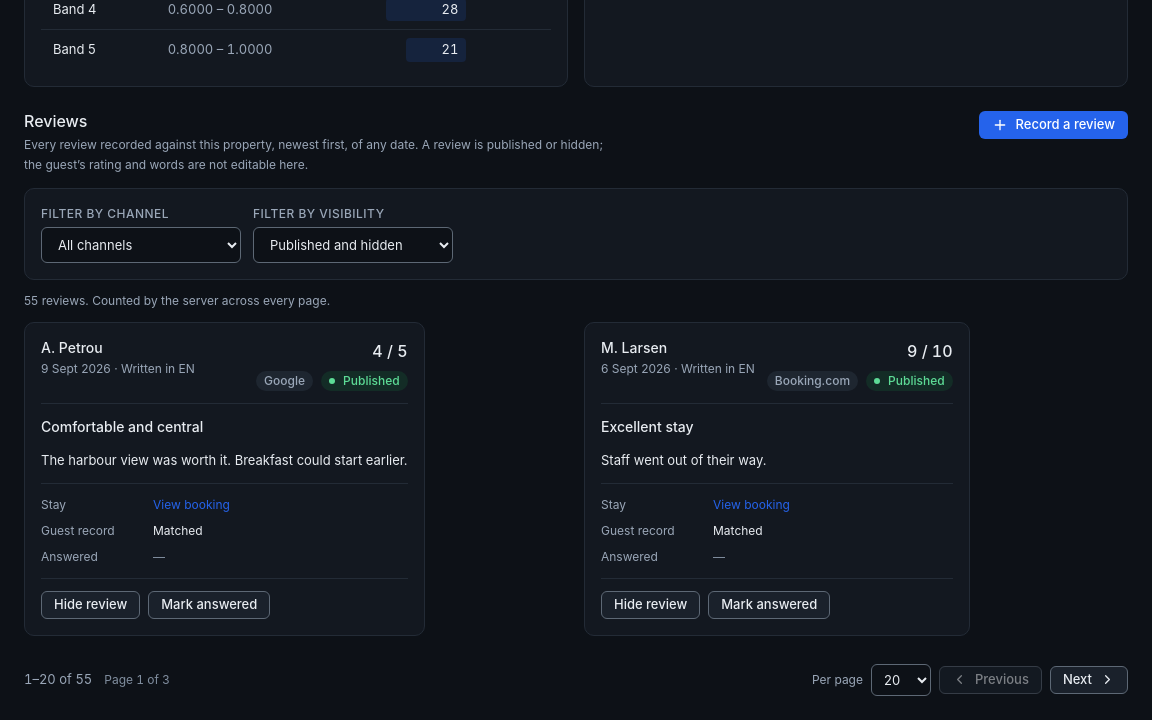
Test: moderation › never renders the backend’s own words on a refusal
(page scrolled)
Expected: the text "Comfortable and central" is shown, [41,418,203,435]
What coordinates should you click on to do the following:
click the button "Hide review" below "Comfortable and central"
I would click on:
 (91, 605)
Its box is [41,591,140,619].
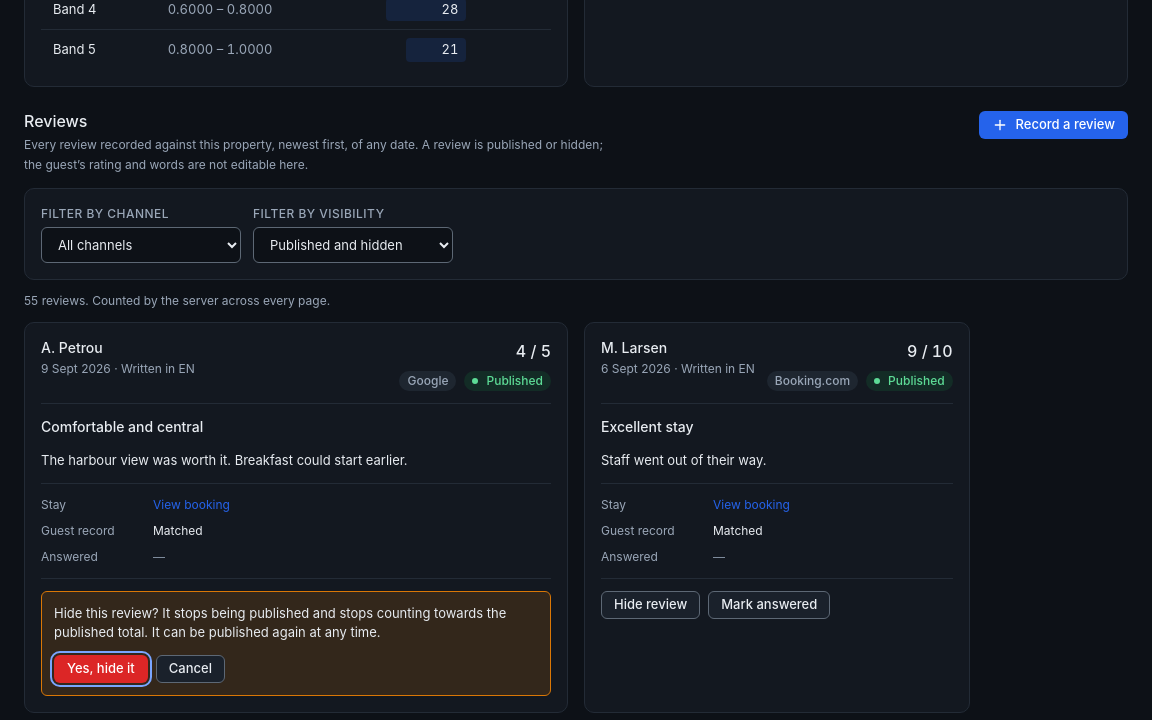
What coordinates should you click on to do the following:
click the button "Yes, hide it"
I would click on:
 (101, 669)
Its box is [54,655,148,683].
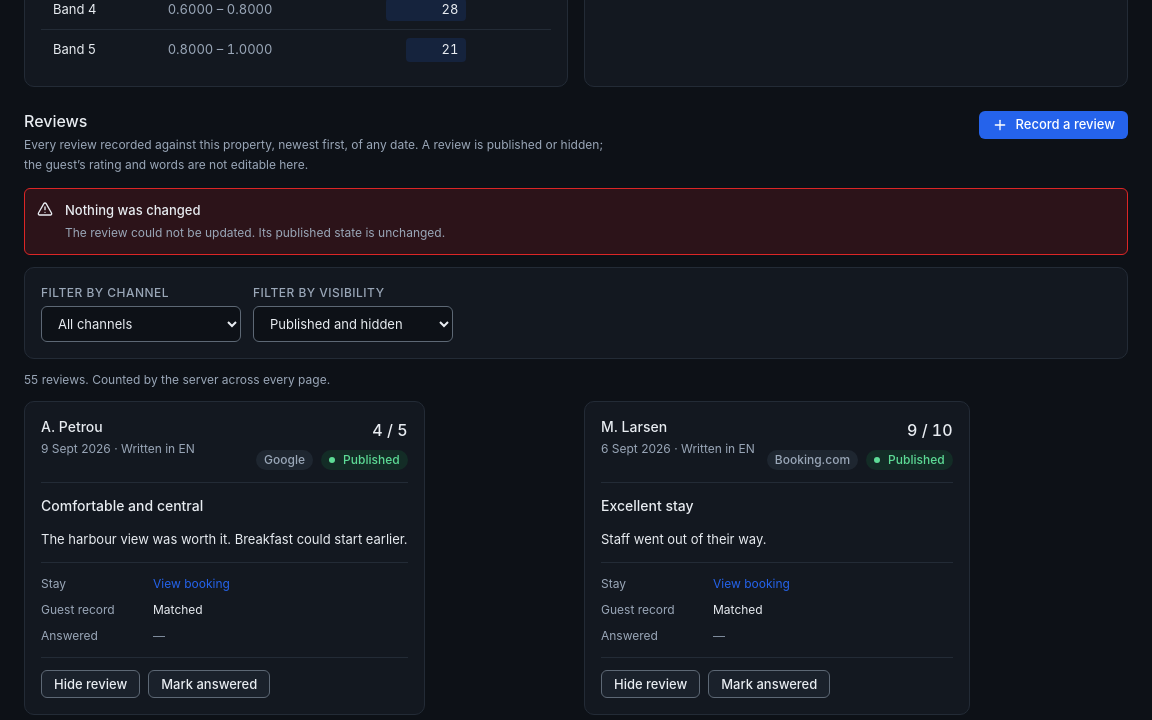
Now the text "Nothing was changed" is shown, box [65,202,200,218]
